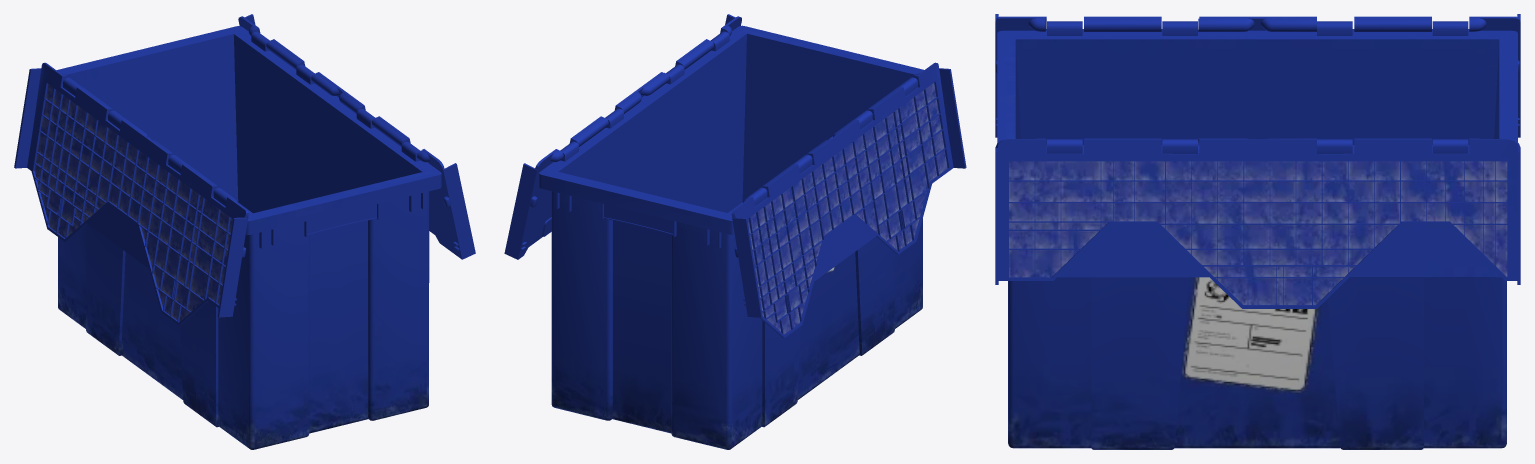
Rendered from industrial_pastic_container.glb.
3 views of the same model, side by side, from view 1: azimuth 30°, elevation 25°; view 2: azimuth 150°, elevation 25°; view 3: azimuth 270°, elevation 25° (orthographic). The views are drawn at different scales.
Parts seen in each view (by area): view 1: industrial_pastic_container; view 2: industrial_pastic_container; view 3: industrial_pastic_container.
Part boxes in pixels (left/top/right/bottom): industrial_pastic_container: left=14, top=14, right=475, bottom=449; industrial_pastic_container: left=504, top=14, right=966, bottom=449; industrial_pastic_container: left=995, top=14, right=1520, bottom=449.
Bounding box in the file's own units: 0.4572 × 0.4189 × 0.6315.
Materials: 1 (1 with a texture image).
